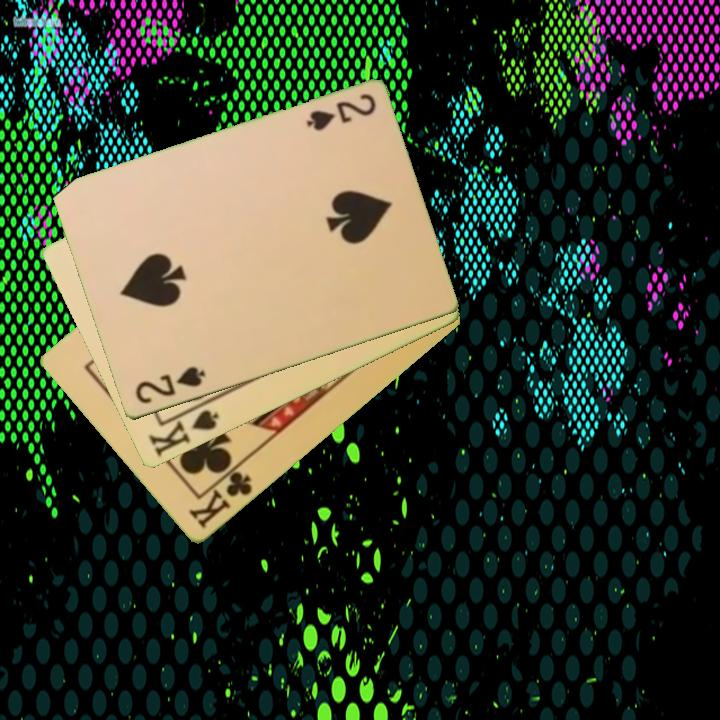2s: (131, 363, 208, 408), (302, 90, 379, 135)
Kc: (185, 460, 256, 533)
Ks: (144, 397, 222, 460)
